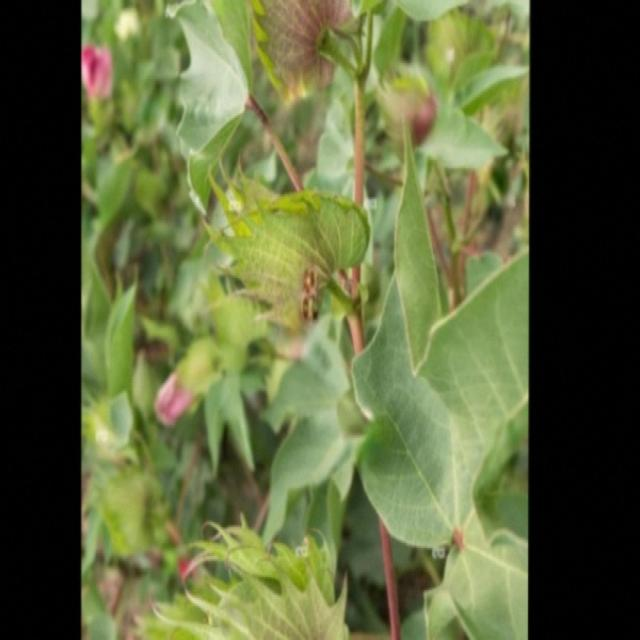Cotton Blossom: (155, 330, 226, 425), (80, 42, 119, 98)
Cotton Bud: (204, 156, 373, 336), (147, 502, 344, 640), (253, 0, 355, 100)
